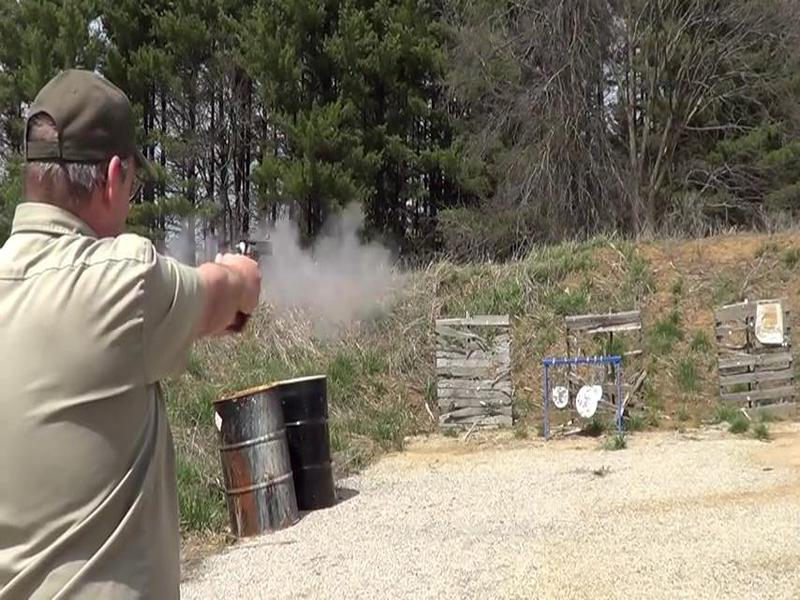Revolver: (231, 224, 290, 292)
